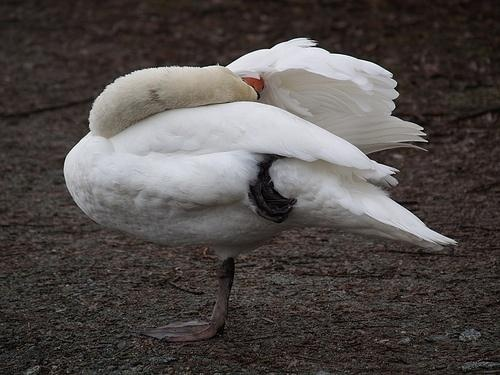bird: (65, 39, 459, 346)
